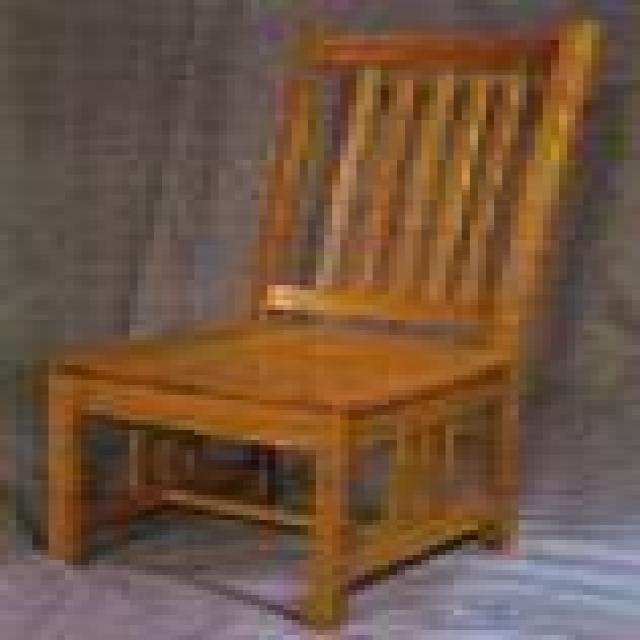chair: (43, 16, 603, 630)
